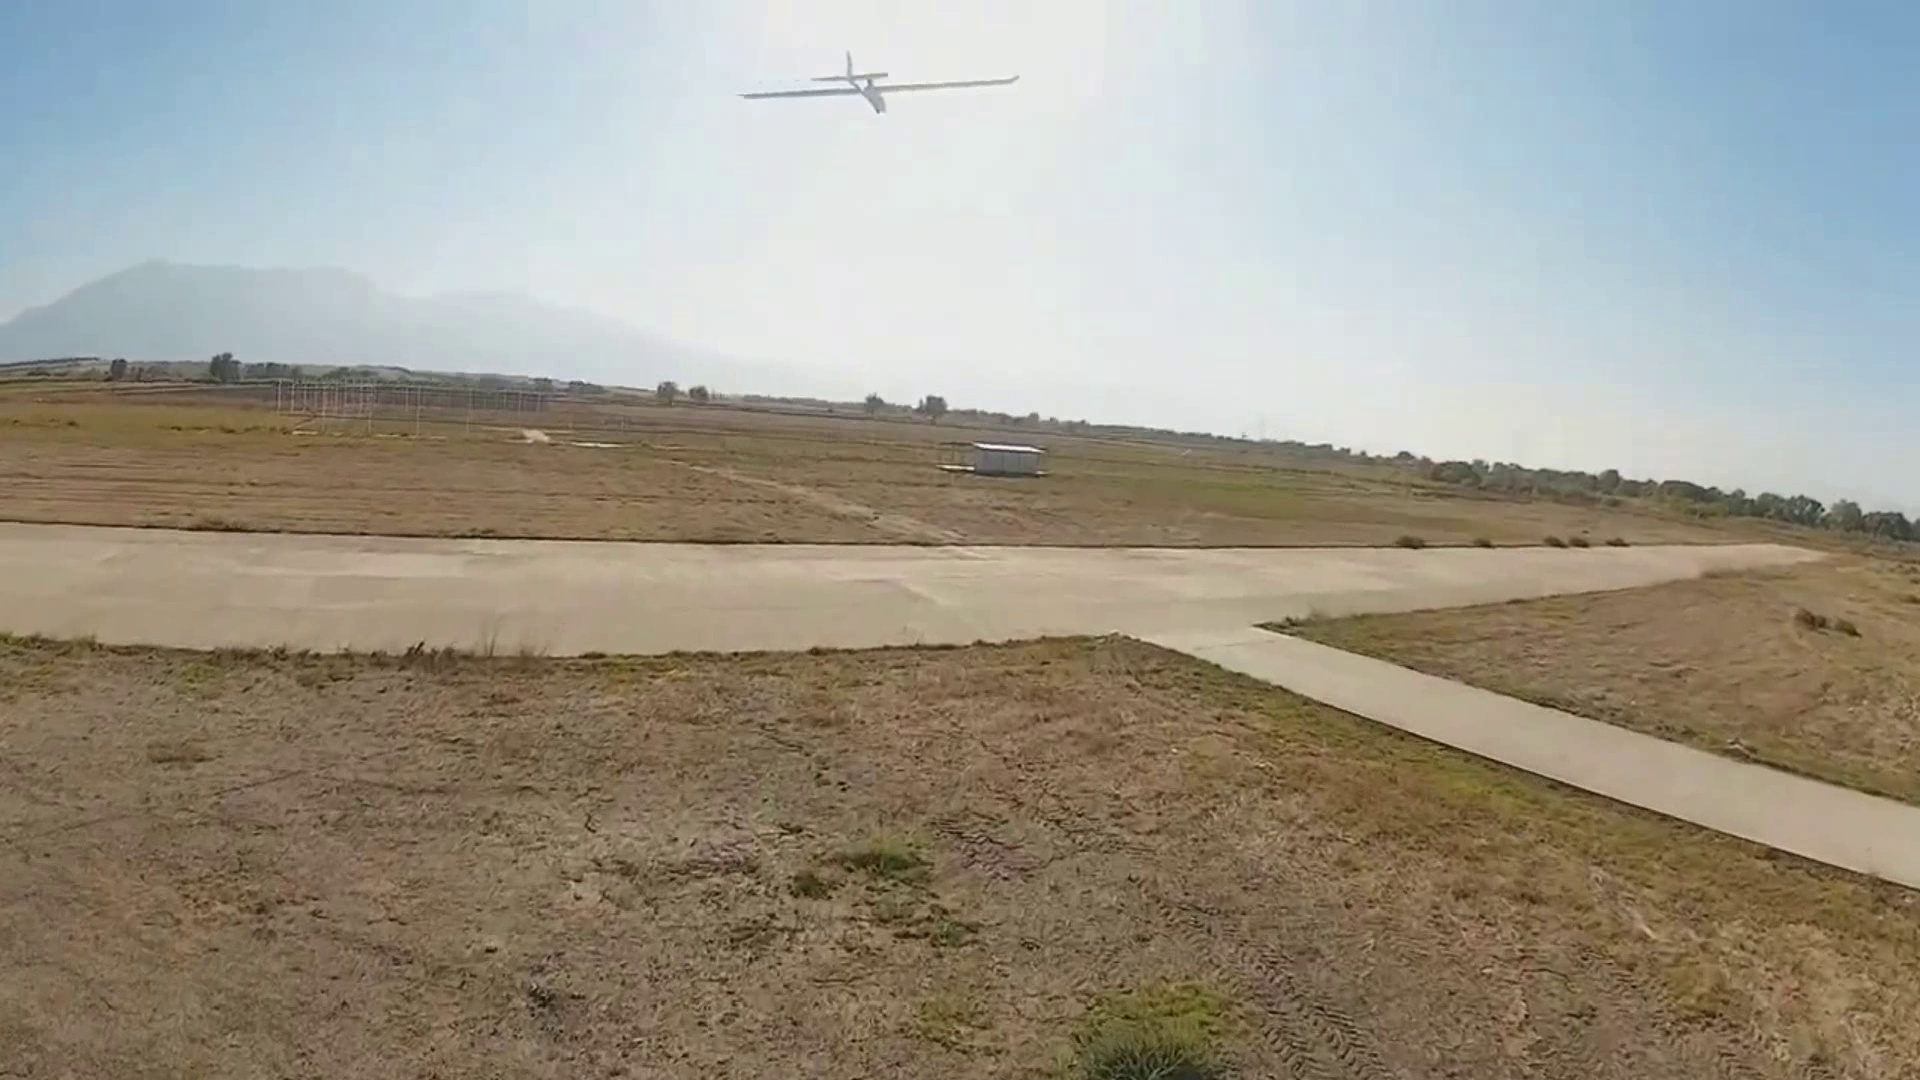airplane: (736, 50, 1021, 113)
